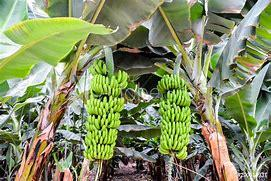banana: (80, 64, 121, 155), (150, 67, 189, 161)
